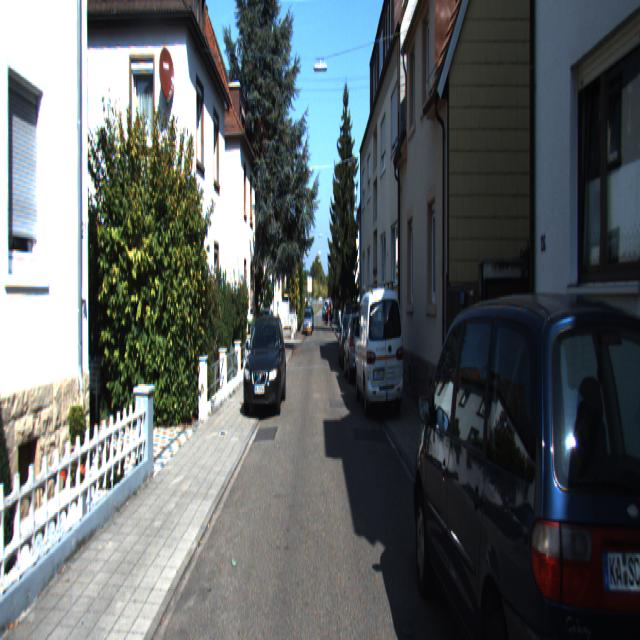Car: (409, 263, 640, 638), (353, 277, 404, 419), (243, 309, 286, 418), (344, 310, 373, 388)
